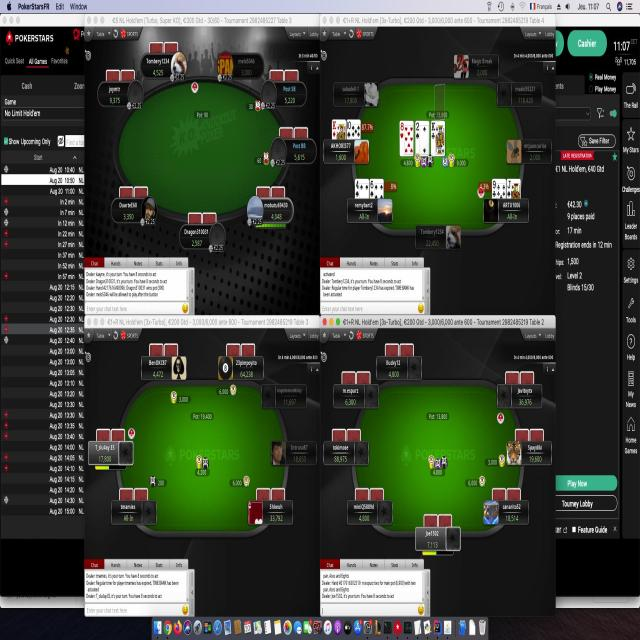10S: (346, 119, 352, 138)
2S: (416, 120, 421, 140)
4S: (355, 177, 361, 196)
6S: (369, 177, 376, 197)
8H: (400, 120, 405, 142)
KC: (430, 118, 437, 142)
KD: (332, 118, 338, 136)
